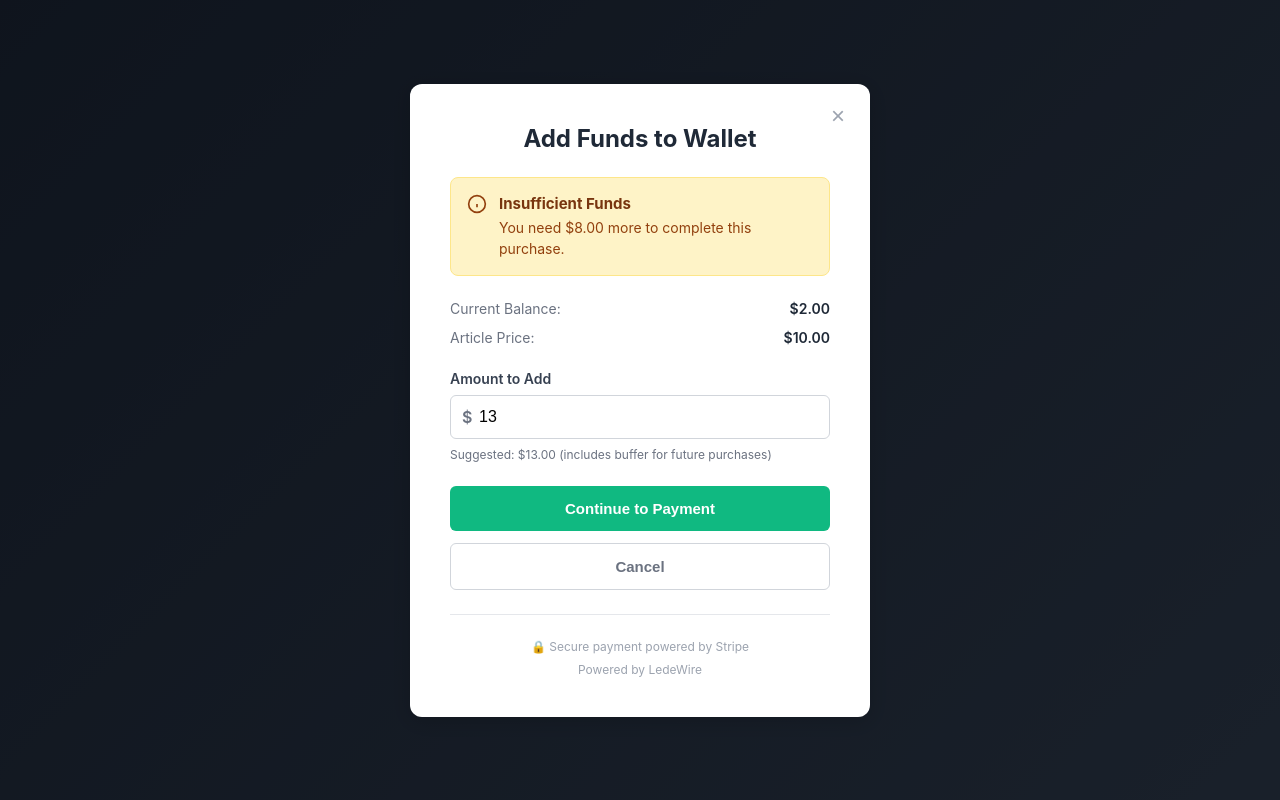
Test case: AddFundsModal › shows validation for invalid amount
The image size is (1280, 800).
Replace the text in the number field with "0" at (640, 416), box [450,394,830,438]
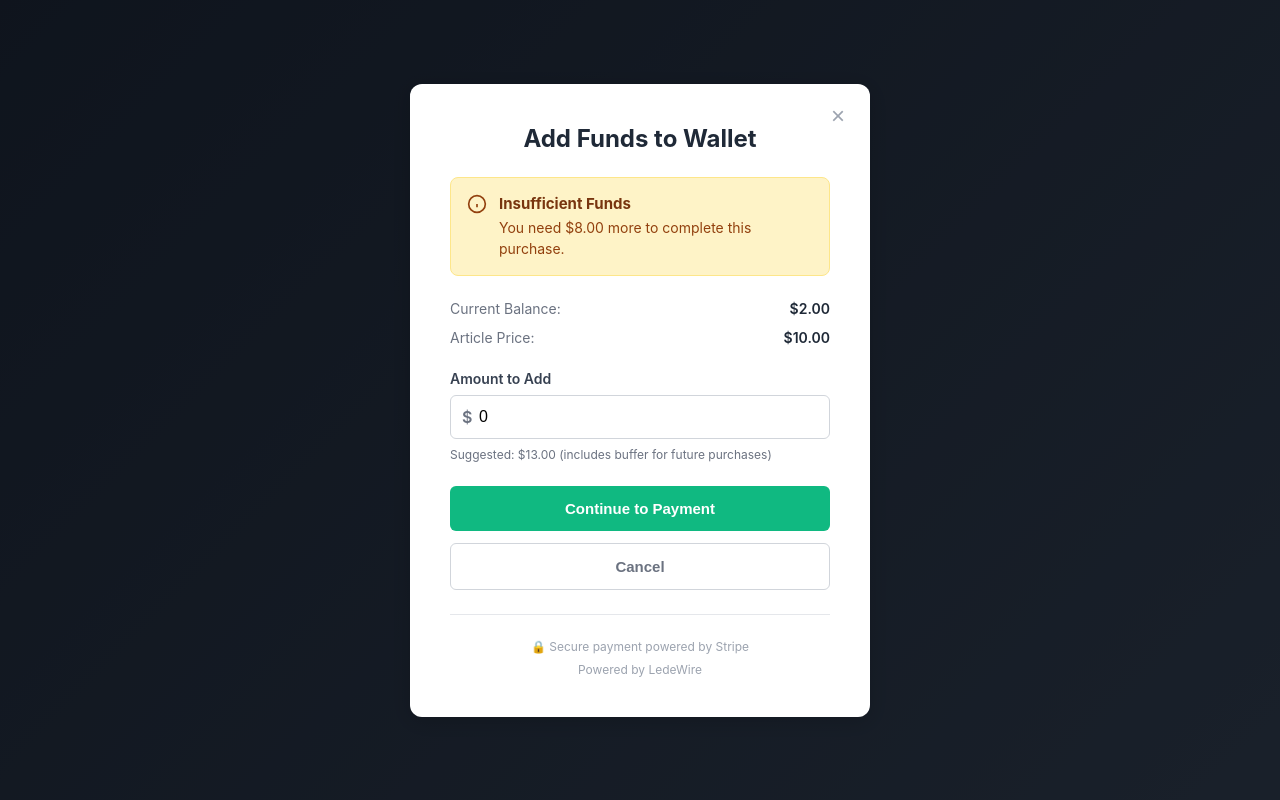
Click the button "Continue to Payment" at (640, 508), box [450,486,830,530]
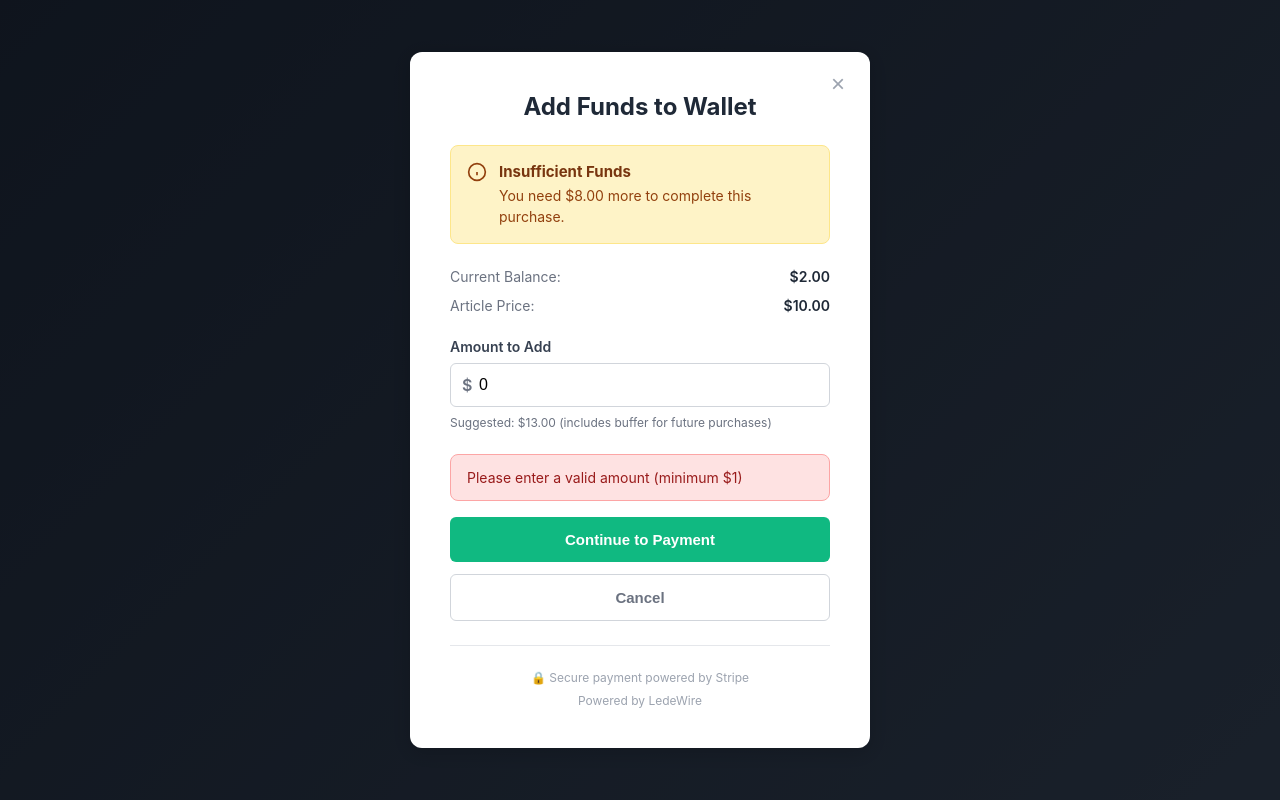
Now the text "Please enter a valid amount (minimum $1)" is shown, box [450,454,830,501]
